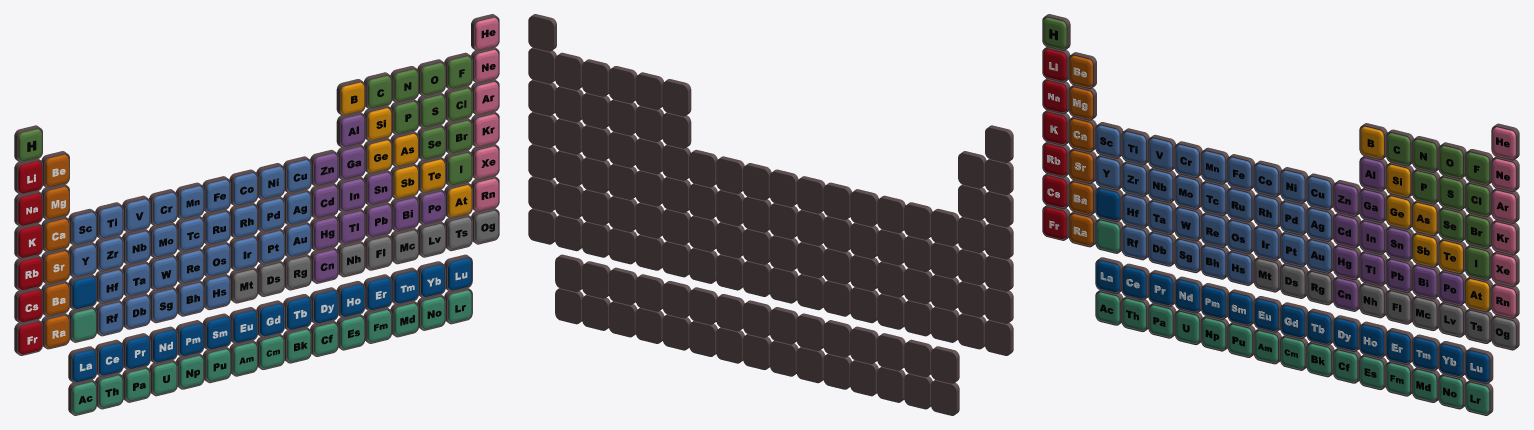
File: periodic_table.glb
3 views of the same model, side by side, from view 1: azimuth 30°, elevation 25°; view 2: azimuth 150°, elevation 25°; view 3: azimuth 330°, elevation 25° (orthographic).
Parts seen in each view (by area): view 1: typeMesh28, typeMesh55, pCube130, typeMesh29, typeMesh54, typeMesh110, pCube115, pCube206, typeMesh82, typeMesh71, pCube127, typeMesh61 (+108 smaller); view 2: pCube120, pCube4, pCube171, pCube187, pCube119, pCube195, pCube69, pCube109, pCube85, pCube61, pCube132, pCube223 (+108 smaller); view 3: typeMesh82, typeMesh3, pCube76, typeMesh72, typeMesh74, pCube64, pCube70, typeMesh43, typeMesh50, pCube115, pCube158, pCube198 (+108 smaller).
Boxes of the visible parts, x1,y1,x2,y2 form: typeMesh28: [179, 186, 203, 218]; typeMesh55: [340, 243, 364, 275]; pCube130: [367, 108, 391, 140]; typeMesh29: [179, 218, 203, 250]; typeMesh54: [340, 211, 364, 243]; typeMesh110: [206, 349, 230, 381]; pCube115: [340, 179, 364, 211]; pCube206: [206, 317, 230, 349]; typeMesh82: [340, 82, 364, 114]; typeMesh71: [367, 140, 391, 172]; pCube127: [367, 172, 391, 204]; typeMesh61: [367, 204, 391, 236]; pCube120: [662, 79, 691, 116]; pCube4: [985, 125, 1013, 162]; pCube171: [528, 14, 556, 51]; pCube187: [931, 346, 959, 383]; pCube119: [662, 112, 691, 148]; pCube195: [877, 333, 905, 370]; pCube69: [823, 182, 851, 219]; pCube109: [689, 149, 717, 187]; pCube85: [769, 169, 798, 206]; pCube61: [850, 189, 878, 226]; pCube132: [635, 72, 663, 109]; pCube223: [689, 287, 717, 324]; typeMesh82: [1360, 126, 1383, 158]; typeMesh3: [1043, 80, 1066, 112]; pCube76: [1228, 157, 1251, 189]; typeMesh72: [1413, 202, 1436, 234]; typeMesh74: [1466, 215, 1489, 247]; pCube64: [1202, 214, 1225, 246]; pCube70: [1228, 252, 1251, 284]; typeMesh43: [1281, 265, 1304, 297]; typeMesh50: [1334, 246, 1357, 278]; pCube115: [1360, 221, 1383, 253]; pCube158: [1466, 310, 1489, 342]; pCube198: [1176, 280, 1199, 311].
Bounding box in the file's own units: 5.35 × 3.15 × 0.0922.
